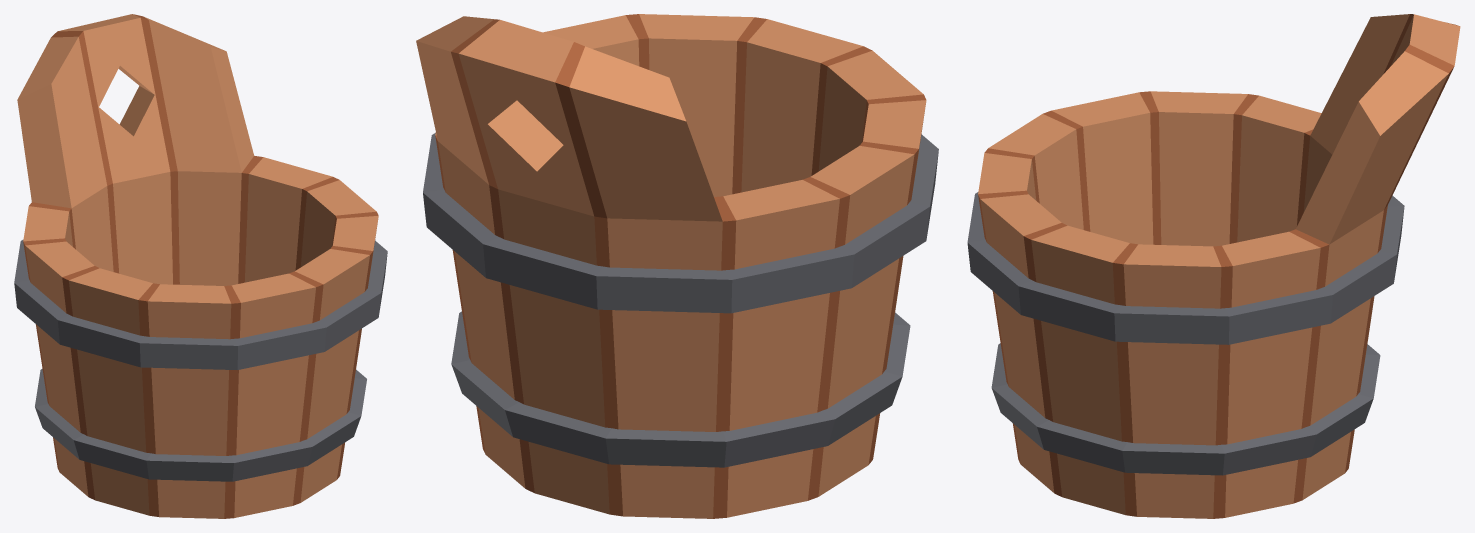
Rendered from Bucket.fbx.
The picture shows the model from 3 angles, left to right: view 1: azimuth 30°, elevation 25°; view 2: azimuth 150°, elevation 25°; view 3: azimuth 270°, elevation 25°; orthographic projection. The views are drawn at different scales.
Parts seen in each view (by area): view 1: Bucket; view 2: Bucket; view 3: Bucket.
Part boxes in pixels (x1,y1,x2,y2): Bucket: (14, 14, 387, 518); Bucket: (416, 14, 938, 518); Bucket: (967, 14, 1460, 518).
Size of the model in its own units: 18.79 by 20.09 by 21.19.
